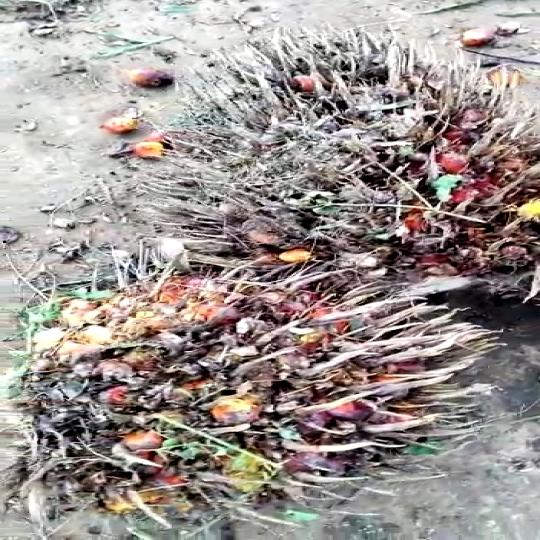terlalu masak: (0, 252, 491, 539), (119, 30, 535, 311)
